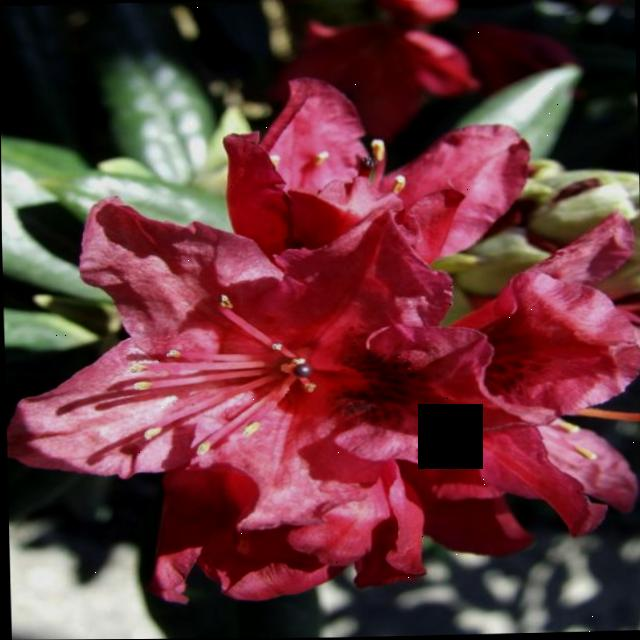azalea: (30, 97, 640, 612)
